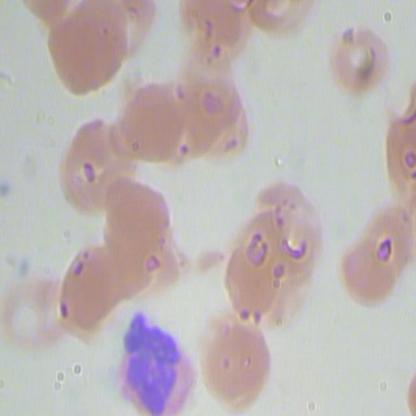RBC: (54, 111, 134, 219), (195, 316, 278, 411), (317, 15, 399, 109), (53, 242, 124, 341), (331, 219, 402, 318), (45, 7, 125, 94), (104, 173, 172, 260), (118, 79, 186, 165)
WBC: (112, 310, 199, 416)
